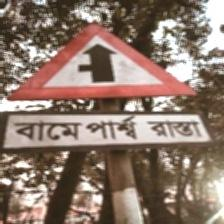Side-road-left: (1, 22, 208, 153)
